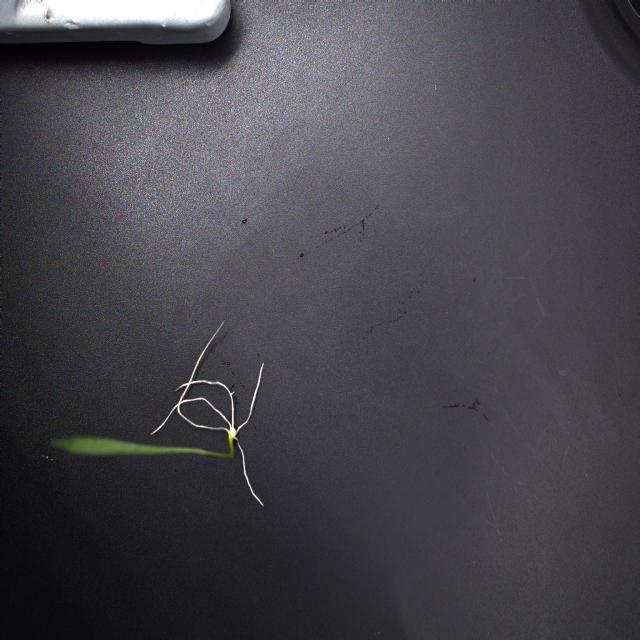root: (151, 322, 264, 506)
stem: (52, 435, 233, 459)
